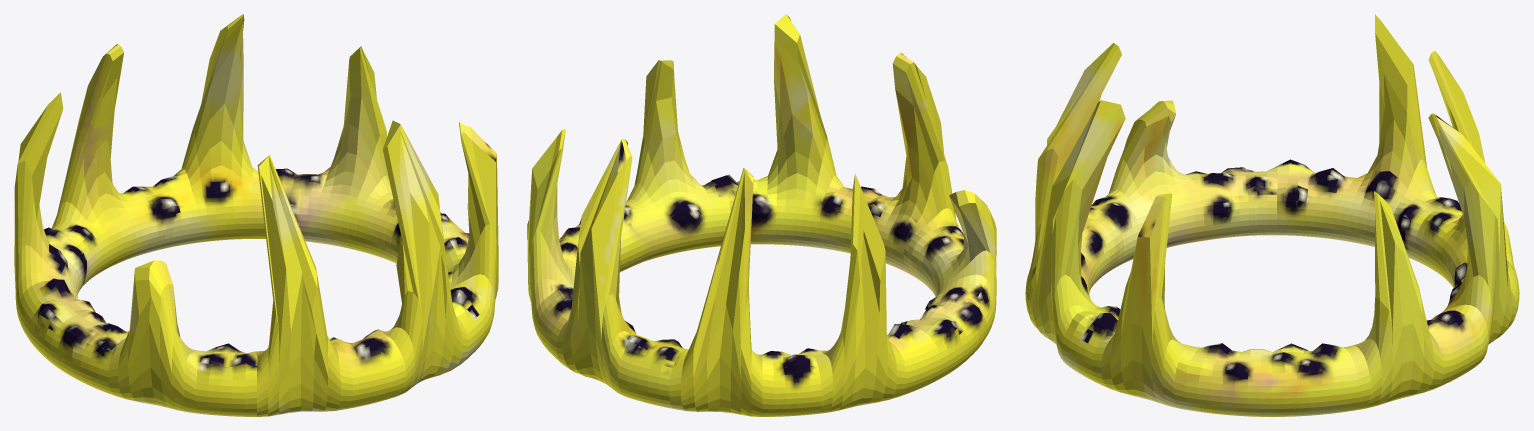
Rendered from MouthGate03.fbx.
3 renders of one model, left to right at view 1: azimuth 30°, elevation 25°; view 2: azimuth 150°, elevation 25°; view 3: azimuth 270°, elevation 25°, orthographic. The views are drawn at different scales.
Visible parts, largest first — view 1: Torus; view 2: Torus; view 3: Torus.
Boxes of the visible parts, x1,y1,x2,y2 form: Torus: (14,14,498,416); Torus: (527,14,996,416); Torus: (1025,14,1519,416).
Size of the model in its own units: 418 by 236 by 418.
